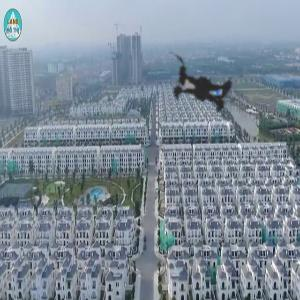drone: (134, 20, 278, 164)
